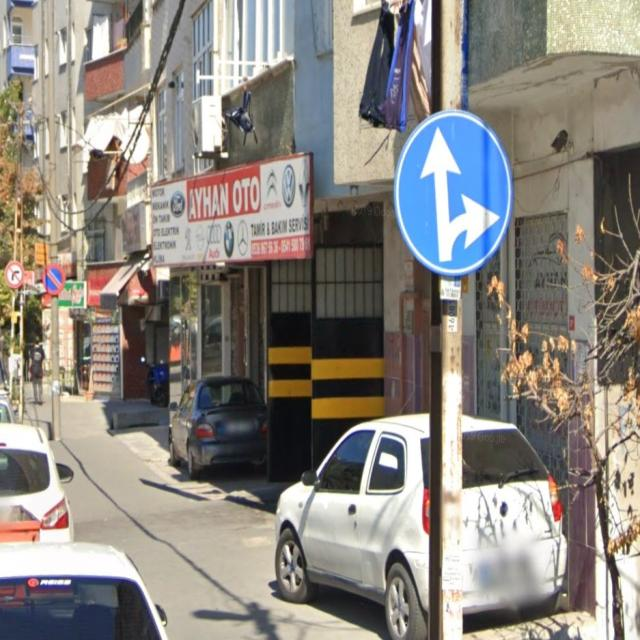ilerisag: (394, 109, 514, 274)
parkyasak: (42, 265, 65, 295)
sagadonulmez: (5, 262, 22, 290)
